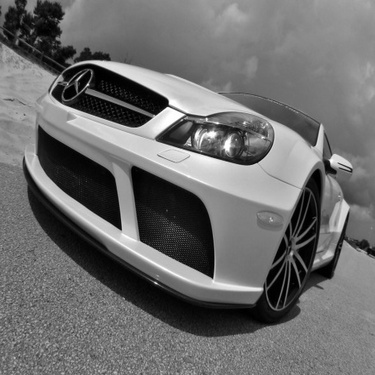car: (16, 43, 360, 326)
